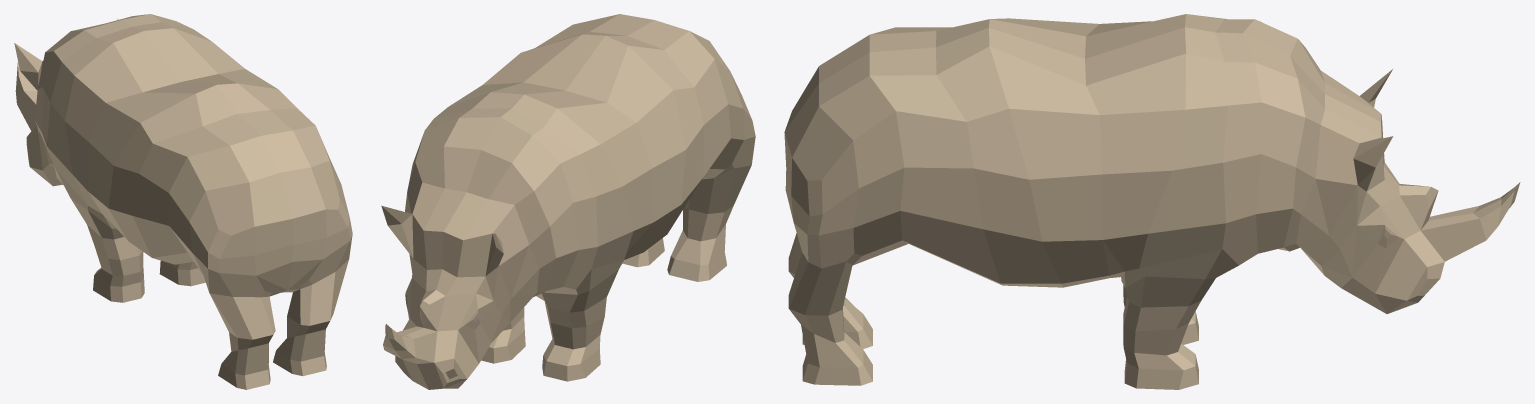
Rendered from xiqu.glb.
3 views of the same model, side by side, from view 1: azimuth 30°, elevation 25°; view 2: azimuth 150°, elevation 25°; view 3: azimuth 270°, elevation 25° (orthographic). The views are drawn at different scales.
Parts seen in each view (by area): view 1: Plane; view 2: Plane; view 3: Plane.
Boxes of the visible parts, bbox=[...] form: Plane: bbox=[14, 14, 352, 389]; Plane: bbox=[381, 14, 755, 389]; Plane: bbox=[784, 14, 1520, 389].
Size of the model in its own units: 3.4 by 4.49 by 9.12.
